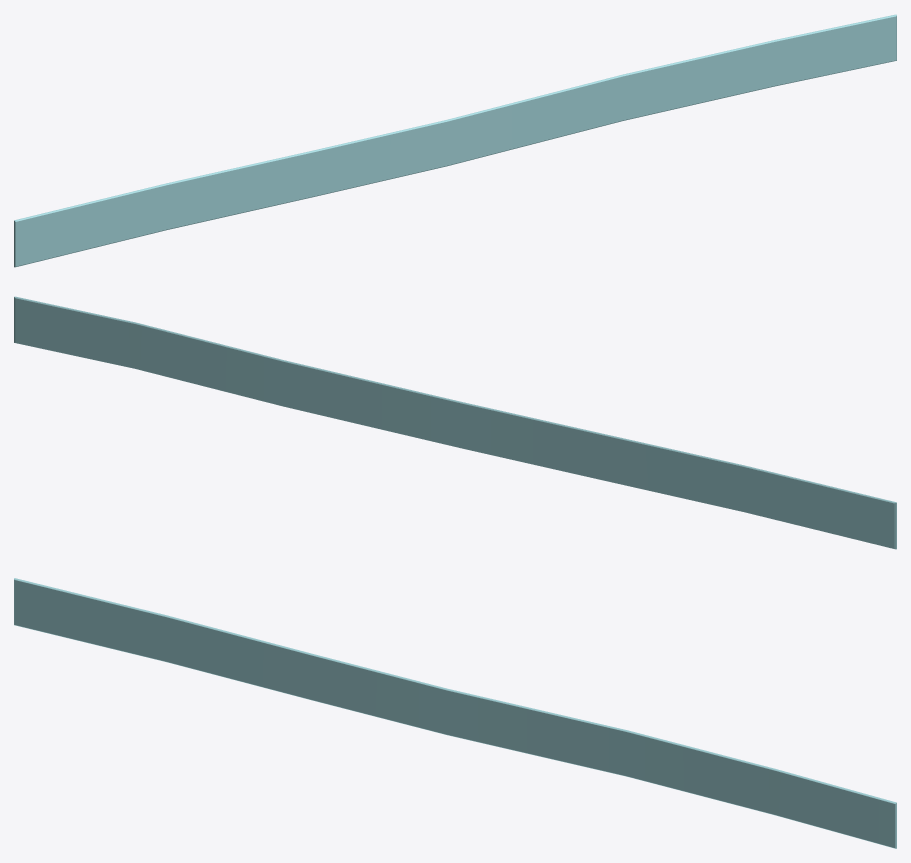
File: Friday_crimeSceneTape2.fbx
3 views of the same model, one above another, from view 1: azimuth 30°, elevation 25°; view 2: azimuth 150°, elevation 25°; view 3: azimuth 330°, elevation 25° (orthographic).
Parts seen in each view (by area): view 1: Crime_Scene; view 2: Crime_Scene; view 3: Crime_Scene.
Boxes of the visible parts, x1=… form: Crime_Scene: x1=14, y1=14, x2=896, y2=267; Crime_Scene: x1=14, y1=296, x2=896, y2=549; Crime_Scene: x1=14, y1=578, x2=896, y2=848.
Size of the model in its own units: 305 by 18.19 by 2.24.
